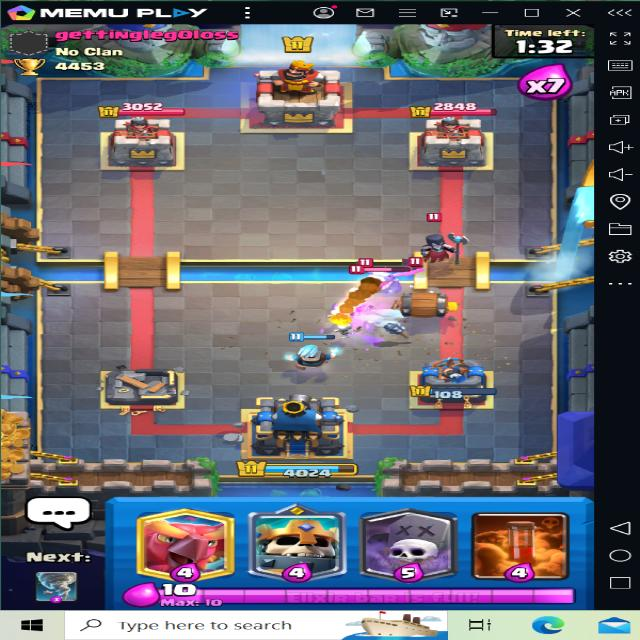baby-dragon: (354, 265, 414, 303)
night-witch: (415, 217, 461, 268)
